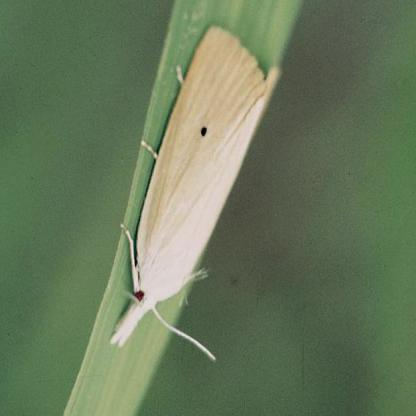stem-borer: (105, 22, 282, 354)
